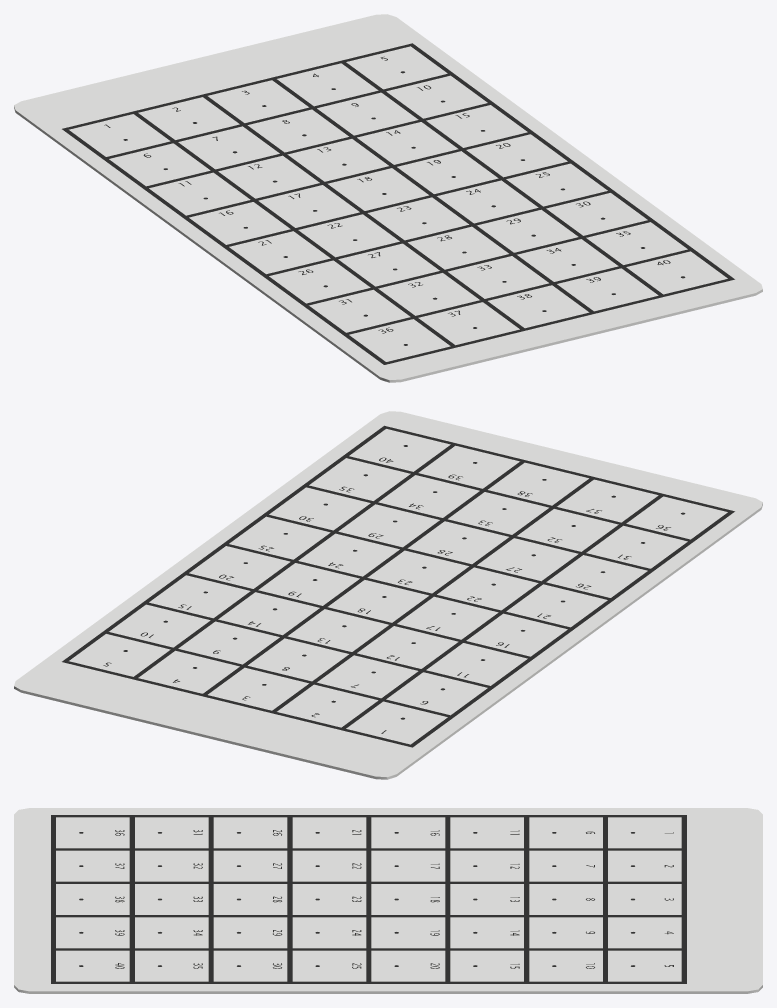
File: shiLiKa20_30.fbx
The picture shows the model from 3 angles, top to bottom: view 1: azimuth 30°, elevation 25°; view 2: azimuth 150°, elevation 25°; view 3: azimuth 270°, elevation 25°; orthographic projection.
Parts seen in each view (by area): view 1: pCube5, pPlane1, typeMesh2; view 2: pCube5, pPlane1, typeMesh2; view 3: pCube5, pPlane1, typeMesh2, pCylinder41.
Boxes of the visible parts, x1,y1,x2,y2 form: pCube5: (14, 14, 762, 382); pPlane1: (62, 43, 734, 364); typeMesh2: (104, 56, 670, 333); pCube5: (14, 411, 762, 779); pPlane1: (62, 425, 734, 747); typeMesh2: (103, 457, 670, 733); pCube5: (14, 808, 762, 993); pPlane1: (51, 815, 686, 983); typeMesh2: (115, 830, 673, 968); pCylinder41: (79, 832, 635, 966).
Bounding box in the file's own units: 11 × 0.0786 × 19.
